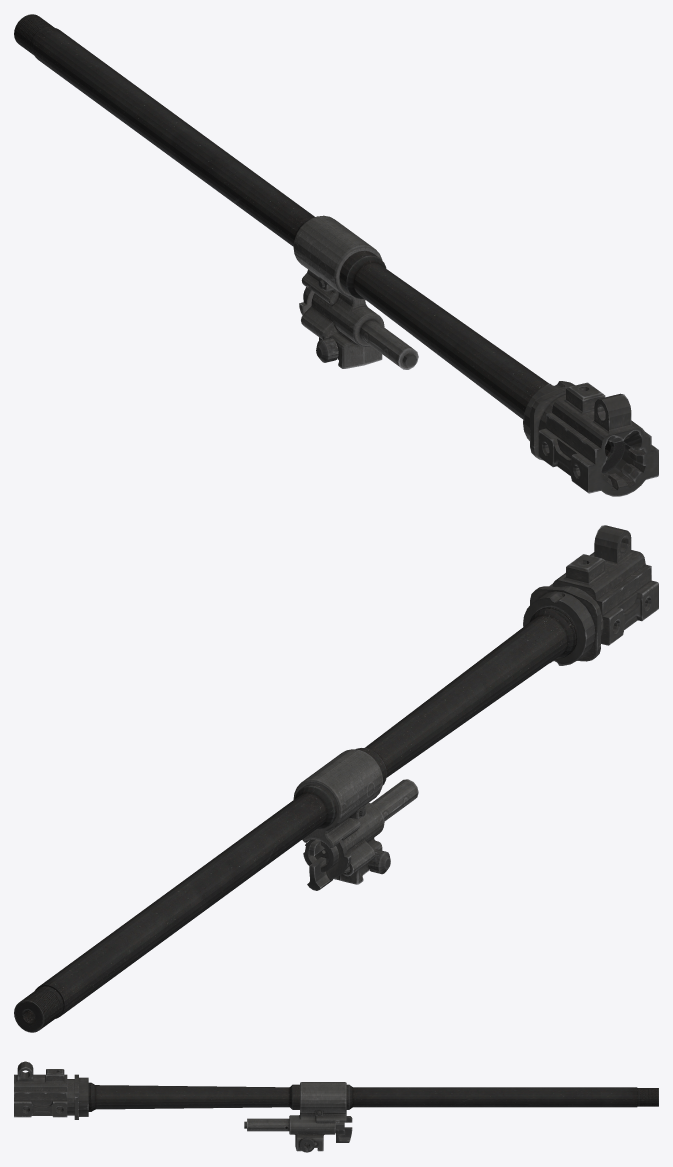
3 views of the same model, one above another, from view 1: azimuth 30°, elevation 25°; view 2: azimuth 150°, elevation 25°; view 3: azimuth 270°, elevation 25° (orthographic). The views are drawn at different scales.
Visible parts, largest first — view 1: TW_6183fd9e8004cc50514c358f_PZ_Import; view 2: TW_6183fd9e8004cc50514c358f_PZ_Import; view 3: TW_6183fd9e8004cc50514c358f_PZ_Import.
Part boxes in pixels (x1=…): TW_6183fd9e8004cc50514c358f_PZ_Import: x1=14, y1=14, x2=658, y2=496; TW_6183fd9e8004cc50514c358f_PZ_Import: x1=14, y1=525, x2=658, y2=1032; TW_6183fd9e8004cc50514c358f_PZ_Import: x1=14, y1=1061, x2=658, y2=1152.
Bounding box in the file's own units: 0.0187 × 0.2708 × 0.0378.
1 material, 1 textured.
